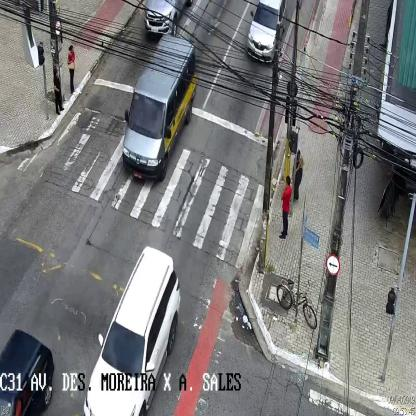bicycle: (276, 278, 317, 331)
car: (83, 246, 180, 416), (122, 35, 195, 182), (246, 4, 284, 64), (143, 0, 196, 41)
person: (279, 176, 290, 238), (294, 147, 304, 203), (53, 66, 64, 115), (66, 44, 76, 94)
